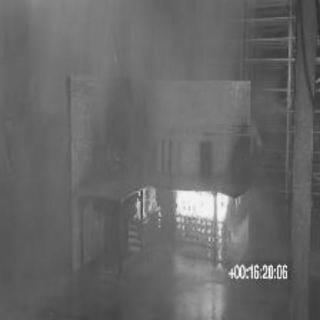Fire: (131, 180, 233, 238)
